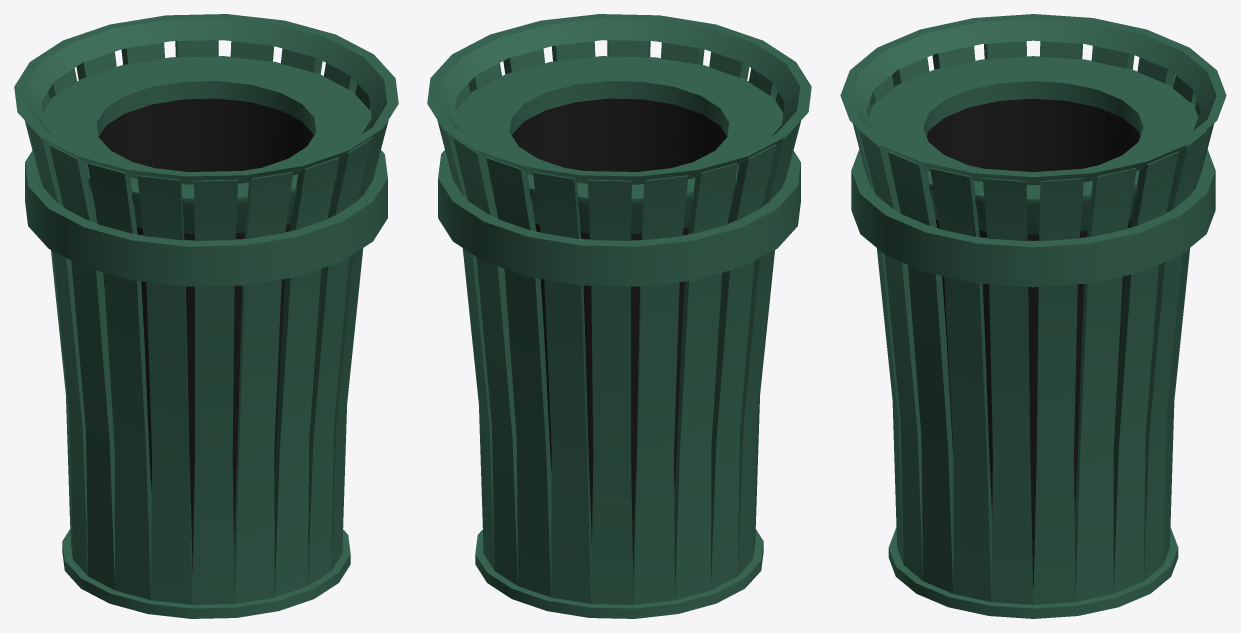
The model's file is ParkTrashCan.fbx.
3 renders of one model, left to right at view 1: azimuth 30°, elevation 25°; view 2: azimuth 150°, elevation 25°; view 3: azimuth 270°, elevation 25°, orthographic.
Visible parts, largest first — view 1: ParkTrashCan; view 2: ParkTrashCan; view 3: ParkTrashCan.
Part boxes in pixels (x1,y1,x2,y2): ParkTrashCan: [14, 14, 398, 618]; ParkTrashCan: [427, 14, 811, 618]; ParkTrashCan: [840, 14, 1226, 618].
Bounding box in the file's own units: 2.83 × 3.74 × 2.83.
